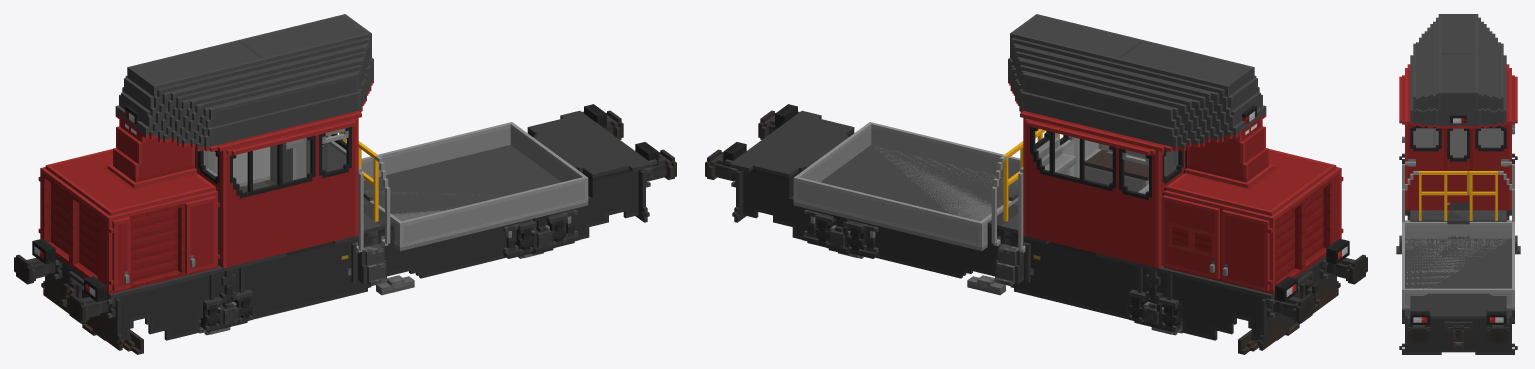
Rendered from sbb_tm_234_crane.obj.
3 renders of one model, left to right at view 1: azimuth 30°, elevation 25°; view 2: azimuth 150°, elevation 25°; view 3: azimuth 270°, elevation 25°, orthographic. The views are drawn at different scales.
Visible parts, largest first — view 1: FRAME_2, FRAME, FLOOR_1_invisible, INTERIOR_LCG_cab1; view 2: FRAME_2, FRAME, FLOOR_1_invisible, INTERIOR_LCG_cab1; view 3: FRAME_2, FLOOR_1_invisible, FRAME, INTERIOR_LCG_cab1, DOOR_1, WIDGET_92_CG_REVERSERFORWARD_HIDE_INVERT.
Part boxes in pixels (x1,y1,x2,y2): FRAME_2: (32, 14, 658, 302); FRAME: (14, 110, 676, 354); FLOOR_1_invisible: (240, 145, 561, 286); INTERIOR_LCG_cab1: (203, 135, 346, 192); FRAME_2: (723, 14, 1349, 302); FRAME: (705, 110, 1367, 354); FLOOR_1_invisible: (820, 145, 1018, 286); INTERIOR_LCG_cab1: (1036, 133, 1178, 193); FRAME_2: (1399, 14, 1517, 324); FLOOR_1_invisible: (1396, 202, 1520, 288); FRAME: (1396, 153, 1520, 354); INTERIOR_LCG_cab1: (1413, 128, 1503, 157); DOOR_1: (1444, 128, 1472, 202); WIDGET_92_CG_REVERSERFORWARD_HIDE_INVERT: (1413, 118, 1503, 322).
Size of the model in its own units: 11.25 by 4.56 by 2.75.
Materials: 1 (1 with a texture image).
